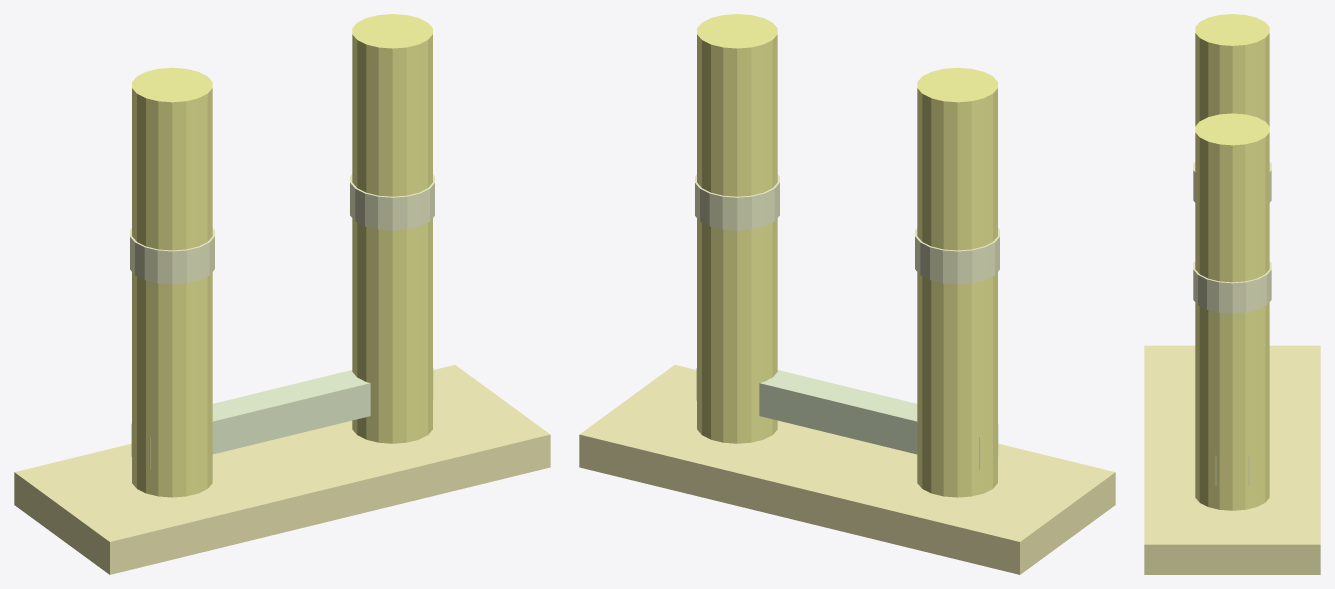
The model's file is furniture_service_bollard_pair.glb.
3 renders of one model, left to right at view 1: azimuth 30°, elevation 25°; view 2: azimuth 150°, elevation 25°; view 3: azimuth 270°, elevation 25°, orthographic. The views are drawn at different scales.
Parts seen in each view (by area): view 1: pad, bollard_left, bollard_right, base_rail, band_right, band_left; view 2: pad, bollard_left, bollard_right, base_rail, band_right, band_left; view 3: pad, bollard_right, bollard_left, band_right.
Boxes of the visible parts, left/top/right/bottom form: pad: left=14, top=365, right=550, bottom=574; bollard_left: left=132, top=67, right=212, bottom=497; bollard_right: left=352, top=14, right=432, bottom=443; base_rail: left=131, top=368, right=433, bottom=469; band_right: left=350, top=174, right=434, bottom=230; band_left: left=130, top=228, right=214, bottom=284; pad: left=579, top=365, right=1115, bottom=574; bollard_left: left=917, top=67, right=997, bottom=497; bollard_right: left=697, top=14, right=777, bottom=443; base_rail: left=696, top=368, right=998, bottom=469; band_right: left=695, top=174, right=779, bottom=230; band_left: left=915, top=228, right=999, bottom=284; pad: left=1144, top=345, right=1320, bottom=574; bollard_right: left=1195, top=113, right=1269, bottom=510; bollard_left: left=1195, top=14, right=1269, bottom=125; band_right: left=1193, top=261, right=1271, bottom=313.
Bounding box in the file's own units: 1.12 × 1.04 × 0.42.
